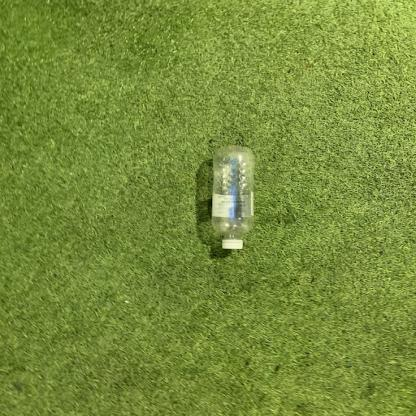trash: (204, 148, 258, 252)
